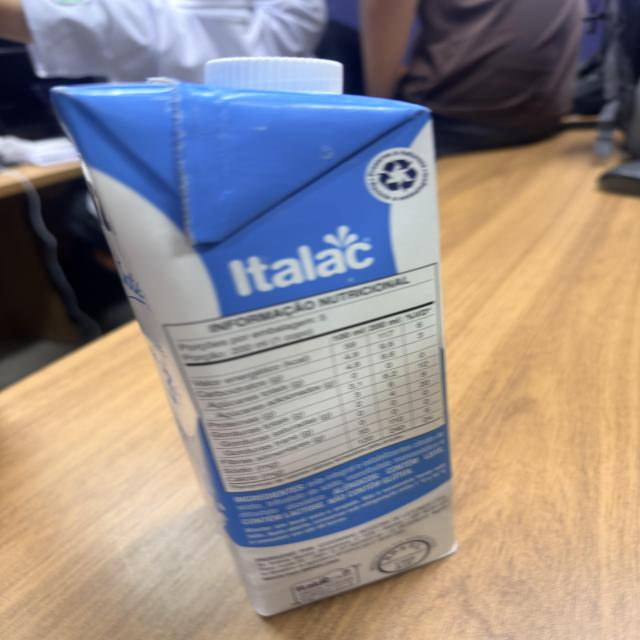Caixa de Leite: (51, 57, 461, 616)
